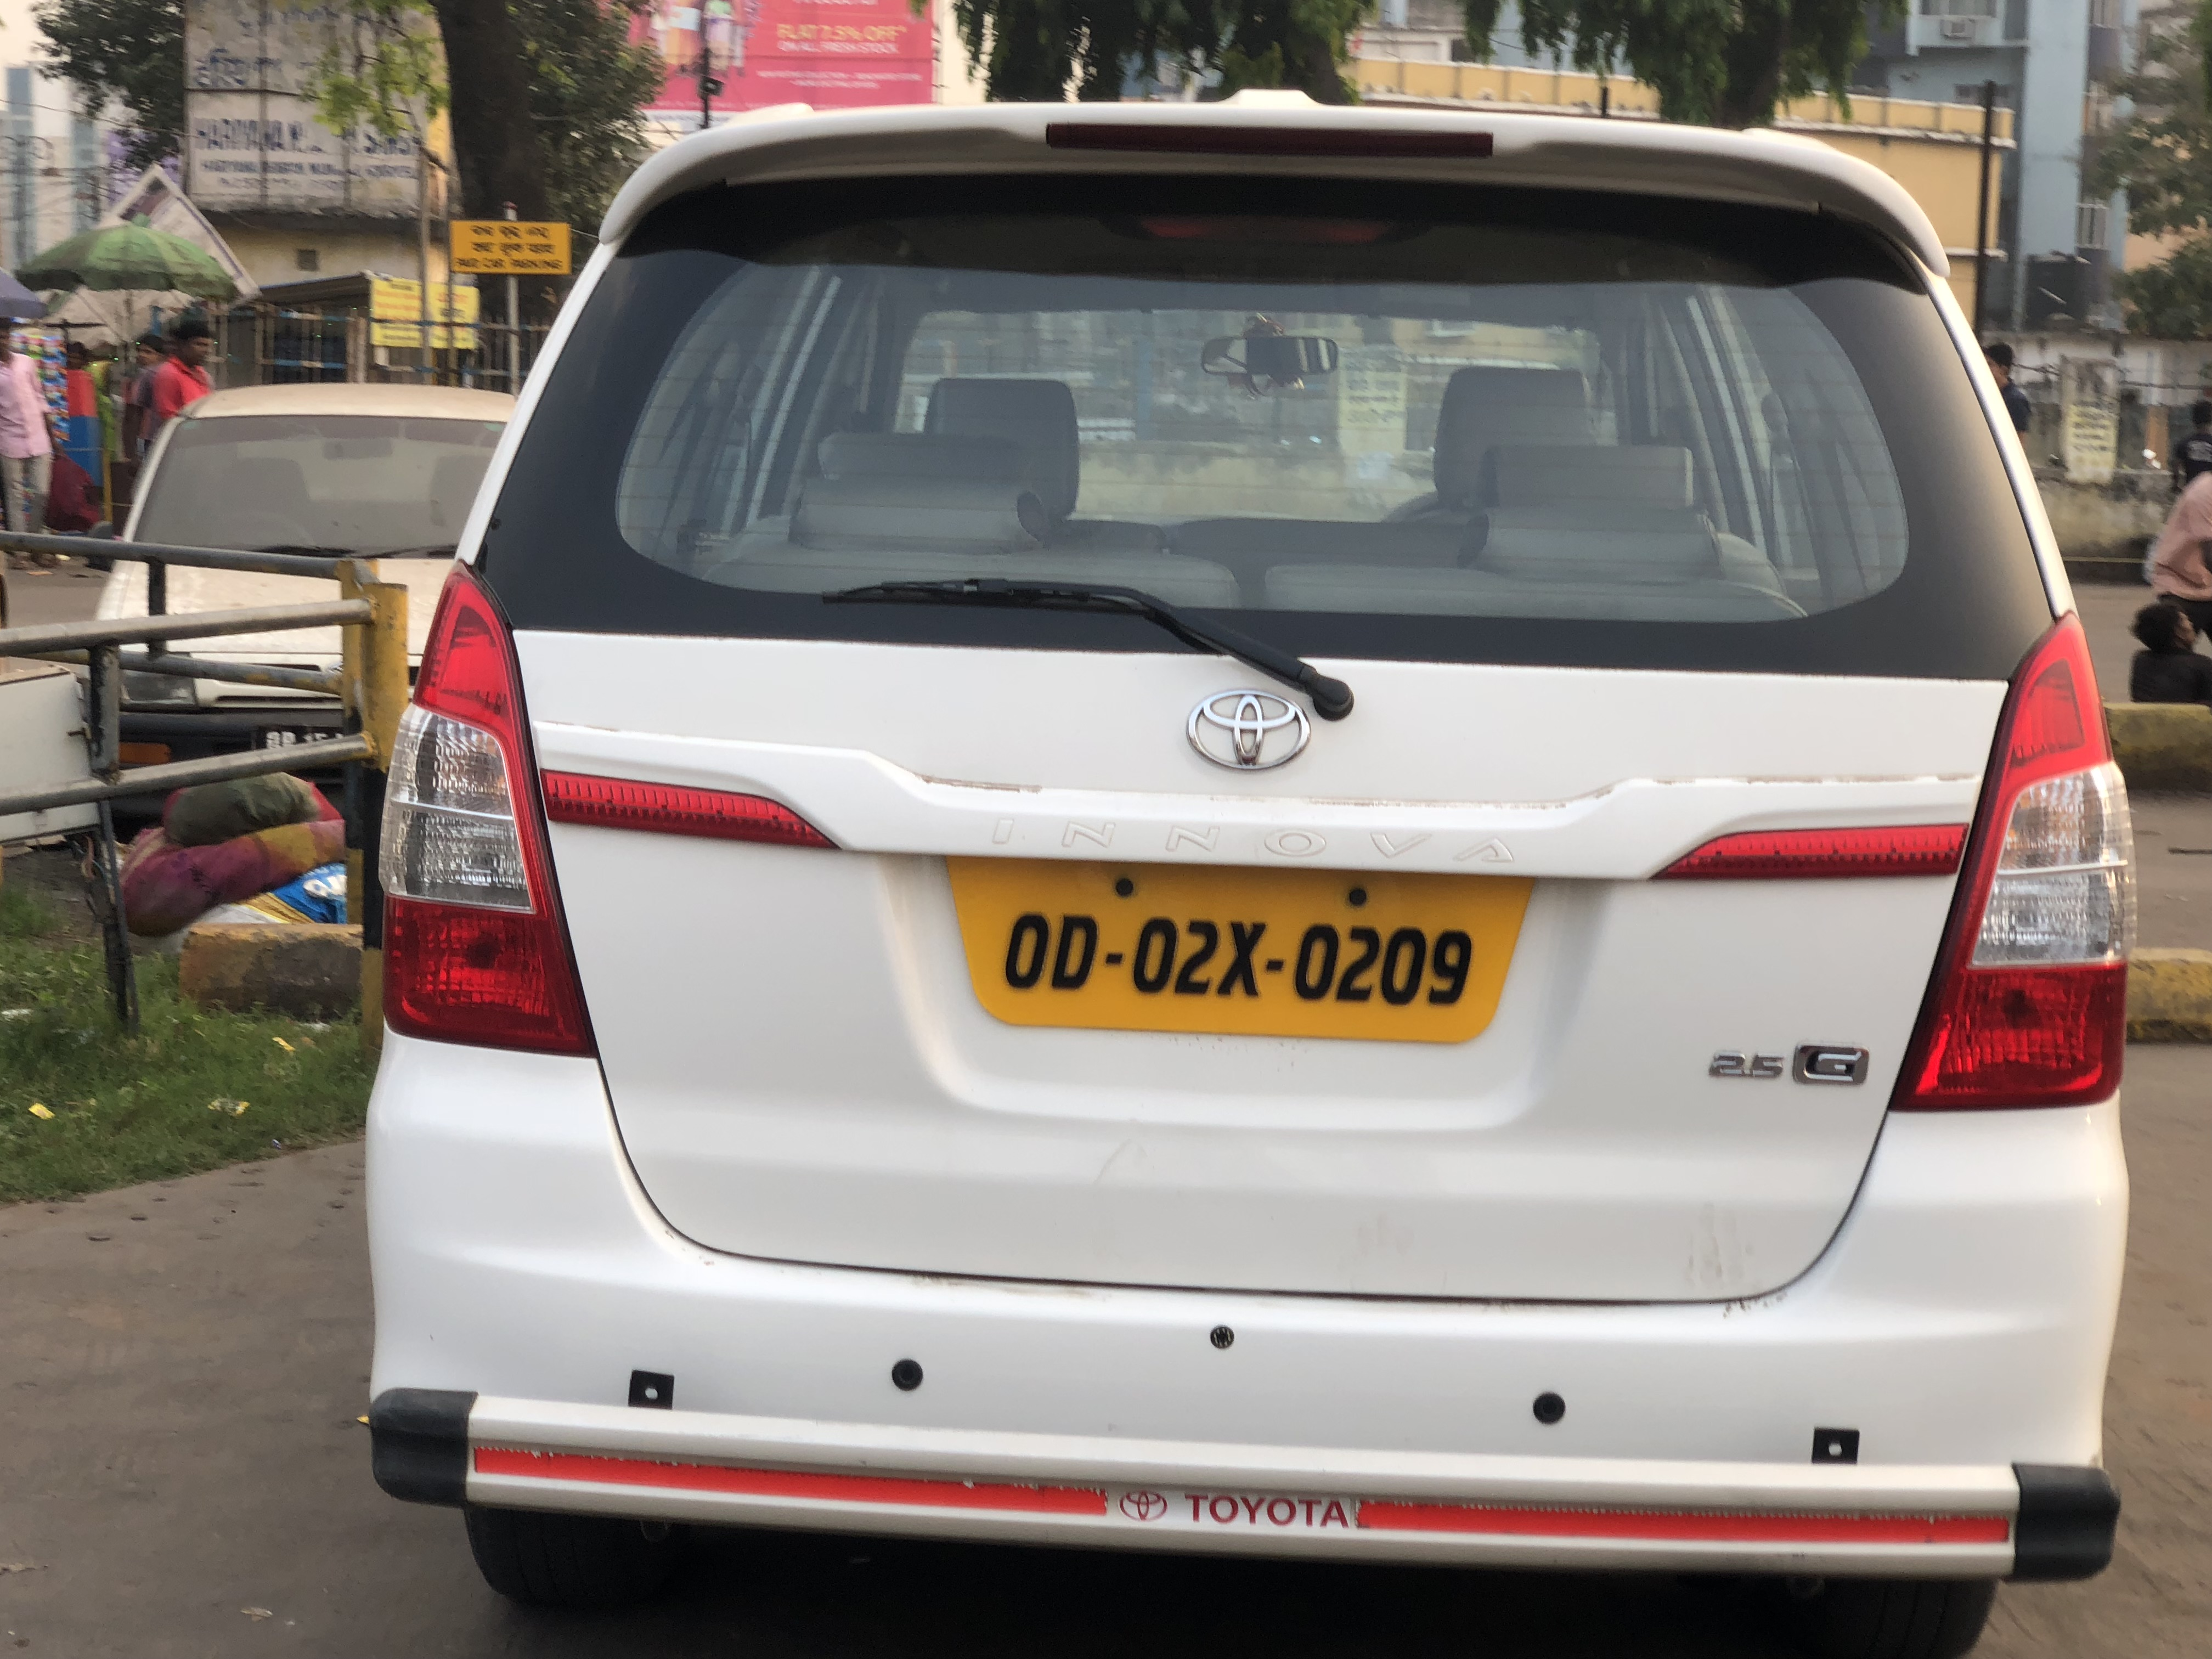licenseplate: (940, 840, 1544, 1062)
